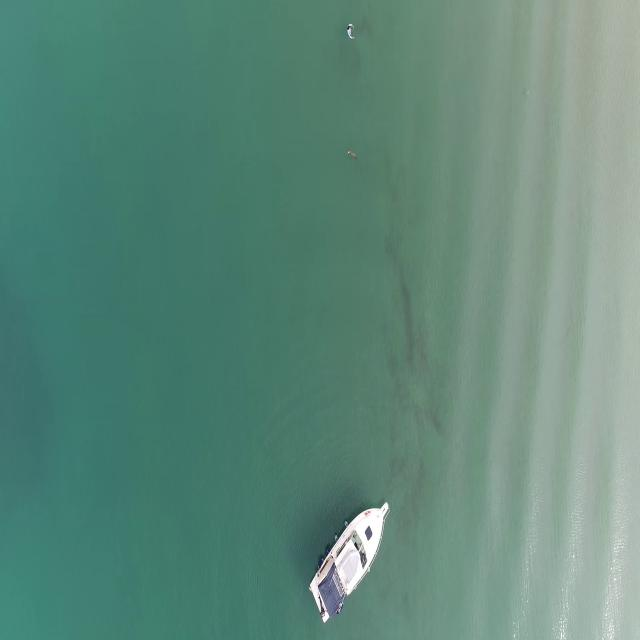boat: (311, 499, 390, 623)
person: (347, 21, 357, 43)
wood: (346, 148, 358, 162)
